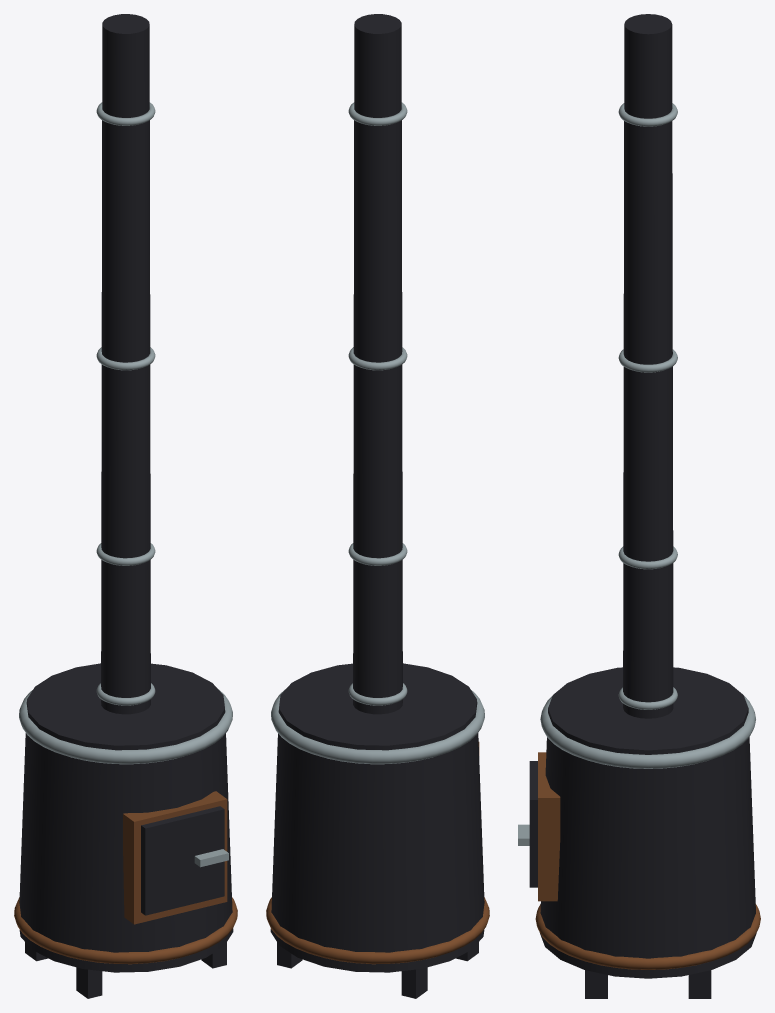
Rendered from mia-stove.glb.
3 renders of one model, left to right at view 1: azimuth 30°, elevation 25°; view 2: azimuth 150°, elevation 25°; view 3: azimuth 270°, elevation 25°, orthographic.
Parts seen in each view (by area): view 1: Body_iron, Body_rust, Body_steel; view 2: Body_iron, Body_steel, Body_rust; view 3: Body_iron, Body_steel, Body_rust.
Boxes of the visible parts, x1,y1,x2,y2 form: Body_iron: (19,14,233,998); Body_rust: (14,791,237,964); Body_steel: (19,102,232,867); Body_iron: (270,14,484,998); Body_steel: (271,102,484,764); Body_rust: (266,742,489,964); Body_iron: (529,14,756,998); Body_steel: (518,103,755,845); Body_rust: (535,752,760,969).
Size of the model in its own units: 0.706 by 3.25 by 0.761.
